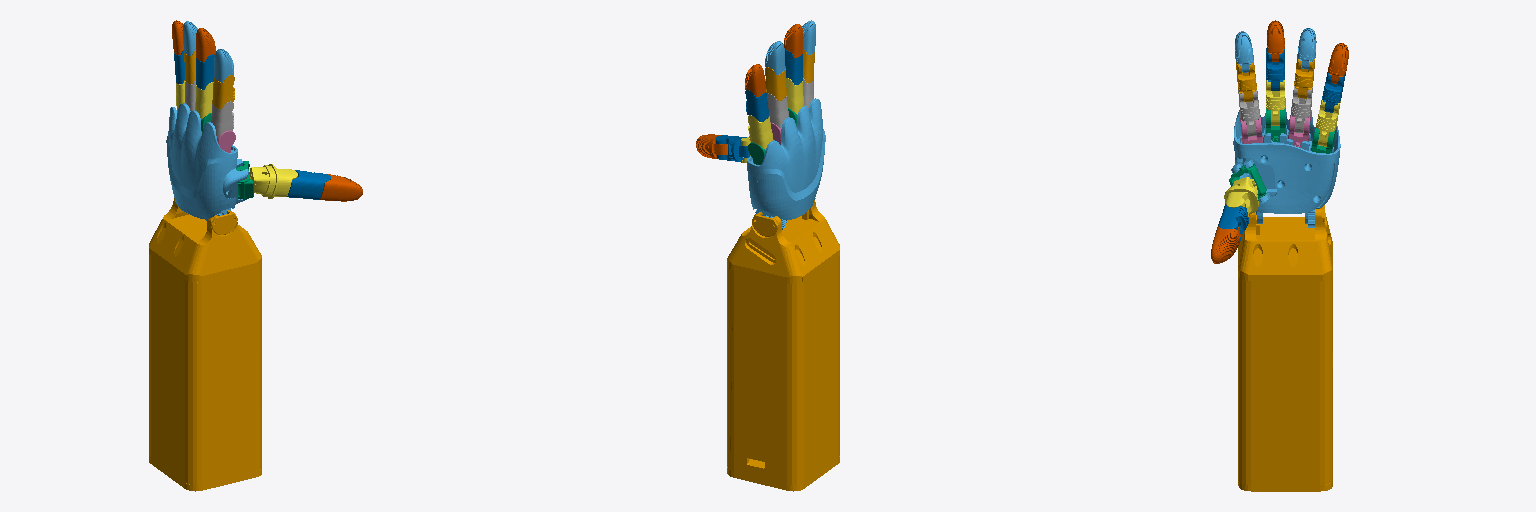
URDF robot description (hand):
<?xml version="1.0" encoding="utf-8"?>
<robot name="hand">
  <link name="lh_hand_base_link">
    <inertial>
      <origin xyz="-1.34997853025689E-05 -5.20757498700064E-05 0.104451129174887" rpy="0 0 0" />
      <mass value="1.1019729965561" />
      <inertia ixx="0.00259916260865797" ixy="-3.60144766064898E-08" ixz="8.31944871687775E-07" iyy="0.00252693593916793" iyz="-1.16010174910407E-07" izz="0.000938081291926511" />
    </inertial>
    <visual>
      <origin xyz="0 0 0" rpy="0 0 0" />
      <geometry>
        <mesh filename="meshes/visual/lh_hand_base_link_vis.obj" />
      </geometry>
    </visual>
    <collision>
      <origin xyz="0 0 0" rpy="0 0 0" />
      <geometry>
        <mesh filename="meshes/visual/lh_hand_base_link_vis.obj" />
      </geometry>
    </collision>
  </link>
  <link name="lh_wrist_carpal_link0">
    <inertial>
      <origin xyz="0.00295979590759302 0.000681064906482208 -0.0338070514291024" rpy="0 0 0" />
      <mass value="0.70689035921541" />
      <inertia ixx="0.000575978245038162" ixy="1.43089882056842E-05" ixz="5.26377311761958E-06" iyy="0.000289783673089226" iyz="-2.21005504138236E-05" izz="0.000341672518982458" />
    </inertial>
    <visual>
      <origin xyz="0 0 0" rpy="0 0 0" />
      <geometry>
        <mesh filename="meshes/visual/lh_wrist_carpal_link0_vis.obj" />
      </geometry>
    </visual>
    <collision>
      <origin xyz="0 0 0" rpy="0 0 0" />
      <geometry>
        <mesh filename="meshes/visual/lh_wrist_carpal_link0_vis.obj" />
      </geometry>
    </collision>
  </link>
  <joint name="lh_wrist_pitch" type="revolute">
    <origin xyz="0 0 0.2295" rpy="3.1416 0 -3.1416" />
    <parent link="lh_hand_base_link" />
    <child link="lh_wrist_carpal_link0" />
    <axis xyz="0 1 0" />
    <limit lower="-0.7025" upper="0.7025" effort="1" velocity="1" />
  </joint>
  <link name="lh_pinky_metacarpals">
    <inertial>
      <origin xyz="0.0114789968660966 0.00161275662466414 0.00914558429988566" rpy="0 0 0" />
      <mass value="0.00315276229345958" />
      <inertia ixx="2.40672820379113E-07" ixy="-3.3808408783117E-09" ixz="-1.91734939275976E-08" iyy="2.13702258285438E-07" iyz="-8.93473868430481E-09" izz="1.64595480318514E-07" />
    </inertial>
    <visual>
      <origin xyz="0 0 0" rpy="0 0 0" />
      <geometry>
        <mesh filename="meshes/visual/lh_pinky_metacarpals_vis.obj" />
      </geometry>
    </visual>
    <collision>
      <origin xyz="0 0 0" rpy="0 0 0" />
      <geometry>
        <mesh filename="meshes/visual/lh_pinky_metacarpals_vis.obj" />
      </geometry>
    </collision>
  </link>
  <joint name="lh_pinky_mcp_roll" type="revolute">
    <origin xyz="0.010893 0.029531 -0.05" rpy="-3.1416 0 -3.002" />
    <parent link="lh_wrist_carpal_link0" />
    <child link="lh_pinky_metacarpals" />
    <axis xyz="-1 0 0" />
    <limit lower="-0.2" upper="0.2" effort="1" velocity="1" />
    <dynamics damping="0.05" friction="0.05" />
  </joint>
  <link name="lh_pinky_proximal">
    <inertial>
      <origin xyz="-0.000234270670300763 1.28011778490547E-05 0.0110435051717581" rpy="0 0 0" />
      <mass value="0.00479441639763248" />
      <inertia ixx="5.41993163342121E-07" ixy="2.76968153687941E-10" ixz="1.25652992225958E-08" iyy="5.41815938109512E-07" iyz="7.39694293689423E-10" izz="1.72528409423759E-07" />
    </inertial>
    <visual>
      <origin xyz="0 0 0" rpy="0 0 0" />
      <geometry>
        <mesh filename="meshes/visual/lh_pinky_proximal_vis.obj" />
      </geometry>
    </visual>
    <collision>
      <origin xyz="0 0 0" rpy="0 0 0" />
      <geometry>
        <mesh filename="meshes/visual/lh_pinky_proximal_vis.obj" />
      </geometry>
    </collision>
  </link>
  <joint name="lh_pinky_mcp_pitch" type="revolute">
    <origin xyz="0.013 0.002952 0.016742" rpy="-0.17458 -0.024029 0.0042378" />
    <parent link="lh_pinky_metacarpals" />
    <child link="lh_pinky_proximal" />
    <axis xyz="0 1 0" />
    <limit lower="0" upper="1.518" effort="1" velocity="1" />
    <dynamics damping="0.05" friction="0.05" />
  </joint>
  <link name="lh_pinky_middle">
    <inertial>
      <origin xyz="-0.000283539386438537 2.98669149307804E-05 0.00957766652686604" rpy="0 0 0" />
      <mass value="0.00407729404040425" />
      <inertia ixx="3.54089445910705E-07" ixy="8.61615586407665E-11" ixz="9.21317038377901E-09" iyy="3.43742750053837E-07" iyz="4.52466756311064E-10" izz="1.287711162457E-07" />
    </inertial>
    <visual>
      <origin xyz="0 0 0" rpy="0 0 0" />
      <geometry>
        <mesh filename="meshes/visual/lh_pinky_middle_vis.obj" />
      </geometry>
    </visual>
    <collision>
      <origin xyz="0 0 0" rpy="0 0 0" />
      <geometry>
        <mesh filename="meshes/visual/lh_pinky_middle_vis.obj" />
      </geometry>
    </collision>
  </link>
  <joint name="lh_pinky_pip" type="revolute">
    <origin xyz="0.00071664 0 0.029369" rpy="0 0 0" />
    <parent link="lh_pinky_proximal" />
    <child link="lh_pinky_middle" />
    <axis xyz="0 1 0" />
    <limit lower="0" upper="1.562" effort="1" velocity="1" />
    <dynamics damping="0.05" friction="0.05" />
  </joint>
  <link name="lh_pinky_distal">
    <inertial>
      <origin xyz="-0.00152864848887025 -1.20278794683917E-05 0.0107786056219105" rpy="0 0 0" />
      <mass value="0.00350254096004791" />
      <inertia ixx="1.93903129896827E-07" ixy="4.88224572364726E-11" ixz="3.87763704485927E-08" iyy="1.8788874438749E-07" iyz="-3.883080215846E-10" izz="7.90341877778964E-08" />
    </inertial>
    <visual>
      <origin xyz="0 0 0" rpy="0 0 0" />
      <geometry>
        <mesh filename="meshes/visual/lh_pinky_distal_vis.obj" />
      </geometry>
    </visual>
    <collision>
      <origin xyz="0 0 0" rpy="0 0 0" />
      <geometry>
        <mesh filename="meshes/visual/lh_pinky_distal_vis.obj" />
      </geometry>
    </collision>
  </link>
  <joint name="lh_pinky_dip" type="revolute">
    <origin xyz="0.00059978 0 0.024225" rpy="0 0 0" />
    <parent link="lh_pinky_middle" />
    <child link="lh_pinky_distal" />
    <axis xyz="0 1 0" />
    <limit lower="0" upper="1.548" effort="1" velocity="1" />
    <dynamics damping="0.05" friction="0.05" />
    <mimic joint="lh_pinky_pip" multiplier="1" offset="0" />
  </joint>
  <link name="lh_ring_metacarpals">
    <inertial>
      <origin xyz="0.0114789967646701 0.000809530028247026 0.00925134476296219" rpy="0 0 0" />
      <mass value="0.00315276113771269" />
      <inertia ixx="2.40672828743837E-07" ixy="-1.69690366075517E-09" ixz="-1.9395209249692E-08" iyy="2.14880687277082E-07" iyz="-4.53533277612956E-09" izz="1.63417006053866E-07" />
    </inertial>
    <visual>
      <origin xyz="0 0 0" rpy="0 0 0" />
      <geometry>
        <mesh filename="meshes/visual/lh_ring_metacarpals_vis.obj" />
      </geometry>
    </visual>
    <collision>
      <origin xyz="0 0 0" rpy="0 0 0" />
      <geometry>
        <mesh filename="meshes/visual/lh_ring_metacarpals_vis.obj" />
      </geometry>
    </collision>
  </link>
  <joint name="lh_ring_mcp_roll" type="revolute">
    <origin xyz="0.013973 0.010767 -0.06" rpy="-3.1416 0 -3.0718" />
    <parent link="lh_wrist_carpal_link0" />
    <child link="lh_ring_metacarpals" />
    <axis xyz="-1 0 0" />
    <limit lower="-0.2" upper="0.2" effort="1" velocity="1" />
    <dynamics damping="0.05" friction="0.05" />
  </joint>
  <link name="lh_ring_proximal">
    <inertial>
      <origin xyz="-5.99169749345857E-05 1.41127379995054E-05 0.0112330254473816" rpy="0 0 0" />
      <mass value="0.00507139680311369" />
      <inertia ixx="5.48689477967611E-07" ixy="2.95847002544023E-10" ixz="1.94254904142734E-08" iyy="5.44133950519592E-07" iyz="7.41814093790813E-10" izz="1.78822736654675E-07" />
    </inertial>
    <visual>
      <origin xyz="0 0 0" rpy="0 0 0" />
      <geometry>
        <mesh filename="meshes/visual/lh_ring_proximal_vis.obj" />
      </geometry>
    </visual>
    <collision>
      <origin xyz="0 0 0" rpy="0 0 0" />
      <geometry>
        <mesh filename="meshes/visual/lh_ring_proximal_vis.obj" />
      </geometry>
    </collision>
  </link>
  <joint name="lh_ring_mcp_pitch" type="revolute">
    <origin xyz="0.013 0.0014816 0.016935" rpy="-0.087268 -0.0060713 0.00053117" />
    <parent link="lh_ring_metacarpals" />
    <child link="lh_ring_proximal" />
    <axis xyz="0 1 0" />
    <limit lower="0" upper="1.518" effort="1" velocity="1" />
    <dynamics damping="0.05" friction="0.05" />
  </joint>
  <link name="lh_ring_middle">
    <inertial>
      <origin xyz="-0.000458822286093695 2.98667547311161E-05 0.00957075840836497" rpy="0 0 0" />
      <mass value="0.00407737340093783" />
      <inertia ixx="3.53679765410448E-07" ixy="7.73502945196261E-11" ixz="1.33307994919875E-08" iyy="3.43747612730459E-07" iyz="4.53934306472773E-10" izz="1.29185350845151E-07" />
    </inertial>
    <visual>
      <origin xyz="0 0 0" rpy="0 0 0" />
      <geometry>
        <mesh filename="meshes/visual/lh_ring_middle_vis.obj" />
      </geometry>
    </visual>
    <collision>
      <origin xyz="0 0 0" rpy="0 0 0" />
      <geometry>
        <mesh filename="meshes/visual/lh_ring_middle_vis.obj" />
      </geometry>
    </collision>
  </link>
  <joint name="lh_ring_pip" type="revolute">
    <origin xyz="0.00017893 0 0.029377" rpy="0 0 0" />
    <parent link="lh_ring_proximal" />
    <child link="lh_ring_middle" />
    <axis xyz="0 1 0" />
    <limit lower="0" upper="1.562" effort="1" velocity="1" />
    <dynamics damping="0.05" friction="0.05" />
  </joint>
  <link name="lh_ring_distal">
    <inertial>
      <origin xyz="-0.00172529735186303 -9.81317631931766E-06 0.0107465477489199" rpy="0 0 0" />
      <mass value="0.00350310857021031" />
      <inertia ixx="1.9245784235492E-07" ixy="4.51210983918527E-11" ixz="4.08559285904922E-08" iyy="1.87882736001687E-07" iyz="-3.64158953092963E-10" izz="8.0520885445972E-08" />
    </inertial>
    <visual>
      <origin xyz="0 0 0" rpy="0 0 0" />
      <geometry>
        <mesh filename="meshes/visual/lh_ring_distal_vis.obj" />
      </geometry>
    </visual>
    <collision>
      <origin xyz="0 0 0" rpy="0 0 0" />
      <geometry>
        <mesh filename="meshes/visual/lh_ring_distal_vis.obj" />
      </geometry>
    </collision>
  </link>
  <joint name="lh_ring_dip" type="revolute">
    <origin xyz="0.00015625 0 0.024232" rpy="0 0 0" />
    <parent link="lh_ring_middle" />
    <child link="lh_ring_distal" />
    <axis xyz="0 1 0" />
    <limit lower="0" upper="1.548" effort="1" velocity="1" />
    <dynamics damping="0.05" friction="0.05" />
    <mimic joint="lh_ring_pip" multiplier="1" offset="0" />
  </joint>
  <link name="lh_middle_metacarpals">
    <inertial>
      <origin xyz="0.0114789954742112 1.41610554175303E-07 0.00928670105328105" rpy="0 0 0" />
      <mass value="0.00315275777099874" />
      <inertia ixx="2.40672781887127E-07" ixy="-5.21258755248753E-14" ixz="-1.94693395379027E-08" iyy="2.15277137290272E-07" iyz="1.85866179749606E-12" izz="1.63020377316681E-07" />
    </inertial>
    <visual>
      <origin xyz="0 0 0" rpy="0 0 0" />
      <geometry>
        <mesh filename="meshes/visual/lh_middle_metacarpals_vis.obj" />
      </geometry>
    </visual>
    <collision>
      <origin xyz="0 0 0" rpy="0 0 0" />
      <geometry>
        <mesh filename="meshes/visual/lh_middle_metacarpals_vis.obj" />
      </geometry>
    </collision>
  </link>
  <joint name="lh_middle_mcp_roll" type="revolute">
    <origin xyz="0.016 -0.008 -0.065" rpy="3.1416 0 -3.1416" />
    <parent link="lh_wrist_carpal_link0" />
    <child link="lh_middle_metacarpals" />
    <axis xyz="-1 0 0" />
    <limit lower="-0.2" upper="0.2" effort="1" velocity="1" />
    <dynamics damping="0.05" friction="0.05" />
  </joint>
  <link name="lh_middle_proximal">
    <inertial>
      <origin xyz="-0.000128368223032206 1.41128458919816E-05 0.011232448341605" rpy="0 0 0" />
      <mass value="0.00507140224967494" />
      <inertia ixx="5.4843911522299E-07" ixy="2.91280587078424E-10" ixz="2.16780871704495E-08" iyy="5.4413394928852E-07" iyz="7.43555283108607E-10" izz="1.79073519553815E-07" />
    </inertial>
    <visual>
      <origin xyz="0 0 0" rpy="0 0 0" />
      <geometry>
        <mesh filename="meshes/visual/lh_middle_proximal_vis.obj" />
      </geometry>
    </visual>
    <collision>
      <origin xyz="0 0 0" rpy="0 0 0" />
      <geometry>
        <mesh filename="meshes/visual/lh_middle_proximal_vis.obj" />
      </geometry>
    </collision>
  </link>
  <joint name="lh_middle_mcp_pitch" type="revolute">
    <origin xyz="0.013 0 0.017" rpy="0 0 0" />
    <parent link="lh_middle_metacarpals" />
    <child link="lh_middle_proximal" />
    <axis xyz="0 1 0" />
    <limit lower="0" upper="1.518" effort="1" velocity="1" />
    <dynamics damping="0.05" friction="0.05" />
  </joint>
  <link name="lh_middle_middle">
    <inertial>
      <origin xyz="-0.000517169925120769 2.98754230450698E-05 0.00956757871693242" rpy="0 0 0" />
      <mass value="0.00407751219344901" />
      <inertia ixx="3.53514463915451E-07" ixy="7.3657024246158E-11" ixz="1.46982208772149E-08" iyy="3.43756499460918E-07" iyz="4.54539305647681E-10" izz="1.29358605983613E-07" />
    </inertial>
    <visual>
      <origin xyz="0 0 0" rpy="0 0 0" />
      <geometry>
        <mesh filename="meshes/visual/lh_middle_middle_vis.obj" />
      </geometry>
    </visual>
    <collision>
      <origin xyz="0 0 0" rpy="0 0 0" />
      <geometry>
        <mesh filename="meshes/visual/lh_middle_middle_vis.obj" />
      </geometry>
    </collision>
  </link>
  <joint name="lh_middle_pip" type="revolute">
    <origin xyz="0 0 0.029378" rpy="0 0 0" />
    <parent link="lh_middle_proximal" />
    <child link="lh_middle_middle" />
    <axis xyz="0 1 0" />
    <limit lower="0" upper="1.562" effort="1" velocity="1" />
    <dynamics damping="0.05" friction="0.05" />
  </joint>
  <link name="lh_middle_distal">
    <inertial>
      <origin xyz="-0.0017911344206113 -6.30067455112231E-06 0.0107336218326992" rpy="0 0 0" />
      <mass value="0.00350333029012545" />
      <inertia ixx="1.91969594788721E-07" ixy="3.20398046133038E-11" ixz="4.15320054044196E-08" iyy="1.87868720767464E-07" iyz="-3.32776402579533E-10" izz="8.1048718199886E-08" />
    </inertial>
    <visual>
      <origin xyz="0 0 0" rpy="0 0 0" />
      <geometry>
        <mesh filename="meshes/visual/lh_middle_distal_vis.obj" />
      </geometry>
    </visual>
    <collision>
      <origin xyz="0 0 0" rpy="0 0 0" />
      <geometry>
        <mesh filename="meshes/visual/lh_middle_distal_vis.obj" />
      </geometry>
    </collision>
  </link>
  <joint name="lh_middle_dip" type="revolute">
    <origin xyz="0 0 0.024233" rpy="0 0 0" />
    <parent link="lh_middle_middle" />
    <child link="lh_middle_distal" />
    <axis xyz="0 1 0" />
    <limit lower="0" upper="1.548" effort="1" velocity="1" />
    <dynamics damping="0.05" friction="0.05" />
    <mimic joint="lh_middle_pip" multiplier="1" offset="0" />
  </joint>
  <link name="lh_index_metacarpals">
    <inertial>
      <origin xyz="0.0114789967359312 -0.000809247231369759 0.00925136999623727" rpy="0 0 0" />
      <mass value="0.00315276088297462" />
      <inertia ixx="2.40672822476025E-07" ixy="1.69681988011446E-09" ixz="-1.93952169944852E-08" iyy="2.14880027096213E-07" iyz="4.53899691634012E-09" izz="1.63417652986107E-07" />
    </inertial>
    <visual>
      <origin xyz="0 0 0" rpy="0 0 0" />
      <geometry>
        <mesh filename="meshes/visual/lh_index_metacarpals_vis.obj" />
      </geometry>
    </visual>
    <collision>
      <origin xyz="0 0 0" rpy="0 0 0" />
      <geometry>
        <mesh filename="meshes/visual/lh_index_metacarpals_vis.obj" />
      </geometry>
    </collision>
  </link>
  <joint name="lh_index_mcp_roll" type="revolute">
    <origin xyz="0.013973 -0.026767 -0.057" rpy="3.1416 0 3.0718" />
    <parent link="lh_wrist_carpal_link0" />
    <child link="lh_index_metacarpals" />
    <axis xyz="-1 0 0" />
    <limit lower="-0.2" upper="0.2" effort="1" velocity="1" />
    <dynamics damping="0.05" friction="0.05" />
  </joint>
  <link name="lh_index_proximal">
    <inertial>
      <origin xyz="-5.99176346514094E-05 1.41164030400265E-05 0.0112330013492603" rpy="0 0 0" />
      <mass value="0.00507138854602795" />
      <inertia ixx="5.48687596694573E-07" ixy="2.95974847390579E-10" ixz="1.94257027047419E-08" iyy="5.44132475227556E-07" iyz="7.42157814213056E-10" izz="1.78822821786967E-07" />
    </inertial>
    <visual>
      <origin xyz="0 0 0" rpy="0 0 0" />
      <geometry>
        <mesh filename="meshes/visual/lh_index_proximal_vis.obj" />
      </geometry>
    </visual>
    <collision>
      <origin xyz="0 0 0" rpy="0 0 0" />
      <geometry>
        <mesh filename="meshes/visual/lh_index_proximal_vis.obj" />
      </geometry>
    </collision>
  </link>
  <joint name="lh_index_mcp_pitch" type="revolute">
    <origin xyz="0.0130000000002386 -0.00148164762669285 0.0169353098673615" rpy="0.0872680750473515 -0.00607125627861655 -0.000531172649101496" />
    <parent link="lh_index_metacarpals" />
    <child link="lh_index_proximal" />
    <axis xyz="0 1 0" />
    <limit lower="0" upper="1.57" effort="1" velocity="1" />
    <dynamics damping="0.05" friction="0.05" />
  </joint>
  <link name="lh_index_middle">
    <inertial>
      <origin xyz="-0.000458856088148856 2.99376533807252E-05 0.00957042296933591" rpy="0 0 0" />
      <mass value="0.00407756300118596" />
      <inertia ixx="3.53688100089198E-07" ixy="7.57771272050888E-11" ixz="1.33306821751995E-08" iyy="3.43761530410638E-07" iyz="4.5525604881153E-10" izz="1.29187858400233E-07" />
    </inertial>
    <visual>
      <origin xyz="0 0 0" rpy="0 0 0" />
      <geometry>
        <mesh filename="meshes/visual/lh_index_middle_vis.obj" />
      </geometry>
    </visual>
    <collision>
      <origin xyz="0 0 0" rpy="0 0 0" />
      <geometry>
        <mesh filename="meshes/visual/lh_index_middle_vis.obj" />
      </geometry>
    </collision>
  </link>
  <joint name="lh_index_pip" type="revolute">
    <origin xyz="0.00017893 0 0.029377" rpy="0 0 0" />
    <parent link="lh_index_proximal" />
    <child link="lh_index_middle" />
    <axis xyz="0 1 0" />
    <limit lower="0" upper="1.562" effort="1" velocity="1" />
    <dynamics damping="0.05" friction="0.05" />
  </joint>
  <link name="lh_index_distal">
    <inertial>
      <origin xyz="-0.00172373704826432 -3.11181835372515E-06 0.0107449621058038" rpy="0 0 0" />
      <mass value="0.00350309999824012" />
      <inertia ixx="1.92474499933177E-07" ixy="1.20629560087625E-11" ixz="4.08559294706516E-08" iyy="1.87876355272361E-07" iyz="-3.02187976022343E-10" izz="8.05469404881351E-08" />
    </inertial>
    <visual>
      <origin xyz="0 0 0" rpy="0 0 0" />
      <geometry>
        <mesh filename="meshes/visual/lh_index_distal_vis.obj" />
      </geometry>
    </visual>
    <collision>
      <origin xyz="0 0 0" rpy="0 0 0" />
      <geometry>
        <mesh filename="meshes/visual/lh_index_distal_vis.obj" />
      </geometry>
    </collision>
  </link>
  <joint name="lh_index_dip" type="revolute">
    <origin xyz="0.00015625 0 0.024232" rpy="0 0 0" />
    <parent link="lh_index_middle" />
    <child link="lh_index_distal" />
    <axis xyz="0 1 0" />
    <limit lower="0" upper="1.548" effort="1" velocity="1" />
    <dynamics damping="0.05" friction="0.05" />
    <mimic joint="lh_index_pip" multiplier="1" offset="0" />
  </joint>
  <link name="lh_thumb_metacarpals_base2">
    <inertial>
      <origin xyz="-0.00147685102795846 0.000214040428544143 -0.000238452552322785" rpy="0 0 0" />
      <mass value="0.00283509743678369" />
      <inertia ixx="3.83010703863647E-07" ixy="-6.65075120255956E-09" ixz="3.73312893907509E-08" iyy="2.15287056392189E-07" iyz="-1.79373154452758E-09" izz="2.64564739538671E-07" />
    </inertial>
    <visual>
      <origin xyz="0 0 0" rpy="0 0 0" />
      <geometry>
        <mesh filename="meshes/visual/lh_thumb_metacarpals_base2_vis.obj" />
      </geometry>
    </visual>
    <collision>
      <origin xyz="0 0 0" rpy="0 0 0" />
      <geometry>
        <mesh filename="meshes/visual/lh_thumb_metacarpals_base2_vis.obj" />
      </geometry>
    </collision>
  </link>
  <joint name="lh_thumb_cmc_yaw" type="revolute">
    <origin xyz="-0.015642 -0.028721 -0.031219" rpy="-2.0206 -0.23678 0.11276" />
    <parent link="lh_wrist_carpal_link0" />
    <child link="lh_thumb_metacarpals_base2" />
    <axis xyz="0 1 0" />
    <limit lower="0" upper="0.611" effort="1" velocity="1" />
    <dynamics damping="0.05" friction="0.05" />
  </joint>
  <link name="lh_thumb_metacarpals_base1">
    <inertial>
      <origin xyz="-0.000430737791450114 -0.000331897558570202 0.0161070914945139" rpy="0 0 0" />
      <mass value="0.00835288210297104" />
      <inertia ixx="1.01706128597739E-06" ixy="1.34870557508868E-08" ixz="2.07663232099768E-08" iyy="1.04864667308432E-06" iyz="5.08580221189304E-08" izz="6.34744505271664E-07" />
    </inertial>
    <visual>
      <origin xyz="0 0 0" rpy="0 0 0" />
      <geometry>
        <mesh filename="meshes/visual/lh_thumb_metacarpals_base1_vis.obj" />
      </geometry>
    </visual>
    <collision>
      <origin xyz="0 0 0" rpy="0 0 0" />
      <geometry>
        <mesh filename="meshes/visual/lh_thumb_metacarpals_base1_vis.obj" />
      </geometry>
    </collision>
  </link>
  <joint name="lh_thumb_cmc_roll" type="revolute">
    <origin xyz="-0.0065381 0 -0.0025034" rpy="1.8548 -0.11381 -1.1998" />
    <parent link="lh_thumb_metacarpals_base2" />
    <child link="lh_thumb_metacarpals_base1" />
    <axis xyz="0 -1 0" />
    <limit lower="0" upper="0.742" effort="0" velocity="0" />
  </joint>
  <link name="lh_thumb_proximal">
    <inertial>
      <origin xyz="-0.000560152604997359 1.46974628378871E-05 0.0117334384997855" rpy="0 0 0" />
      <mass value="0.00620945854353978" />
      <inertia ixx="8.34359806246167E-07" ixy="-2.68049036609821E-10" ixz="3.25232794142515E-08" iyy="7.84163618577268E-07" iyz="7.38868267014016E-10" izz="3.48981416749499E-07" />
    </inertial>
    <visual>
      <origin xyz="0 0 0" rpy="0 0 0" />
      <geometry>
        <mesh filename="meshes/visual/lh_thumb_proximal_vis.obj" />
      </geometry>
    </visual>
    <collision>
      <origin xyz="0 0 0" rpy="0 0 0" />
      <geometry>
        <mesh filename="meshes/visual/lh_thumb_proximal_vis.obj" />
      </geometry>
    </collision>
  </link>
  <joint name="lh_thumb_mcp" type="revolute">
    <origin xyz="-0.00039779 0.00036965 0.032462" rpy="-0.015409 0.0065069 1.2216" />
    <parent link="lh_thumb_metacarpals_base1" />
    <child link="lh_thumb_proximal" />
    <axis xyz="0 1 0" />
    <limit lower="0" upper="1.021" effort="0" velocity="0" />
  </joint>
  <link name="lh_thumb_distal">
    <inertial>
      <origin xyz="-0.00174725074921893 2.54322208402824E-05 0.0141839701995717" rpy="0 0 0" />
      <mass value="0.00845667463474486" />
      <inertia ixx="7.83732765390088E-07" ixy="-6.56780379022018E-13" ixz="1.5592831492525E-07" iyy="7.64455961349945E-07" iyz="9.18806246432541E-10" izz="3.22527806132632E-07" />
    </inertial>
    <visual>
      <origin xyz="0 0 0" rpy="0 0 0" />
      <geometry>
        <mesh filename="meshes/visual/lh_thumb_distal_vis.obj" />
      </geometry>
    </visual>
    <collision>
      <origin xyz="0 0 0" rpy="0 0 0" />
      <geometry>
        <mesh filename="meshes/visual/lh_thumb_distal_vis.obj" />
      </geometry>
    </collision>
  </link>
  <joint name="lh_thumb_dip" type="revolute">
    <origin xyz="-0.00036258 0 0.027882" rpy="0 0 0" />
    <parent link="lh_thumb_proximal" />
    <child link="lh_thumb_distal" />
    <axis xyz="0 1 0" />
    <limit lower="0" upper="1.484" effort="0" velocity="0" />
  </joint>
</robot>

--- Facts derived from the render (not from the file) ---
3 views of the same robot in one strip: view 1: azimuth 30°, elevation 25°; view 2: azimuth 150°, elevation 25°; view 3: azimuth 270°, elevation 25° (orthographic).
Model hand with 22 links and 21 joints (21 revolute), rooted at lh_hand_base_link, posed all joints at 0.
Links seen in each view (by area): view 1: lh_hand_base_link, lh_wrist_carpal_link0, lh_thumb_metacarpals_base1, lh_thumb_proximal, lh_thumb_distal, lh_index_proximal, lh_index_middle; view 2: lh_hand_base_link, lh_wrist_carpal_link0, lh_pinky_proximal, lh_thumb_proximal, lh_thumb_distal, lh_ring_middle, lh_pinky_middle; view 3: lh_hand_base_link, lh_wrist_carpal_link0, lh_thumb_metacarpals_base1, lh_thumb_distal, lh_thumb_proximal, lh_pinky_proximal, lh_ring_proximal, lh_index_proximal, lh_middle_proximal, lh_pinky_distal, lh_index_distal, lh_ring_distal (+5 smaller).
Link boxes in pixels (left/top/right/bottom): lh_hand_base_link: left=149, top=198, right=261, bottom=491; lh_wrist_carpal_link0: left=166, top=103, right=248, bottom=220; lh_thumb_metacarpals_base1: left=246, top=164, right=297, bottom=198; lh_thumb_proximal: left=287, top=170, right=330, bottom=199; lh_thumb_distal: left=320, top=174, right=362, bottom=201; lh_index_proximal: left=210, top=101, right=233, bottom=137; lh_index_middle: left=212, top=75, right=234, bottom=108; lh_hand_base_link: left=727, top=198, right=839, bottom=491; lh_wrist_carpal_link0: left=747, top=98, right=825, bottom=229; lh_pinky_proximal: left=748, top=115, right=772, bottom=149; lh_thumb_proximal: left=716, top=135, right=749, bottom=162; lh_thumb_distal: left=696, top=134, right=727, bottom=158; lh_ring_middle: left=765, top=67, right=786, bottom=100; lh_pinky_middle: left=745, top=90, right=768, bottom=121; lh_hand_base_link: left=1238, top=205, right=1332, bottom=491; lh_wrist_carpal_link0: left=1231, top=110, right=1340, bottom=227; lh_thumb_metacarpals_base1: left=1224, top=177, right=1258, bottom=213; lh_thumb_distal: left=1211, top=226, right=1240, bottom=263; lh_thumb_proximal: left=1218, top=204, right=1248, bottom=240; lh_pinky_proximal: left=1316, top=100, right=1340, bottom=146; lh_ring_proximal: left=1291, top=86, right=1312, bottom=132; lh_index_proximal: left=1238, top=90, right=1259, bottom=136; lh_middle_proximal: left=1266, top=80, right=1285, bottom=125; lh_pinky_distal: left=1328, top=43, right=1348, bottom=83; lh_index_distal: left=1235, top=31, right=1253, bottom=72; lh_ring_distal: left=1297, top=28, right=1316, bottom=69.
Size in the robot's own frame: 0.1476 by 0.1093 by 0.3926 metres.
Meshes: 22 distinct files referenced, 22 mesh visuals loaded (22 OBJ).
